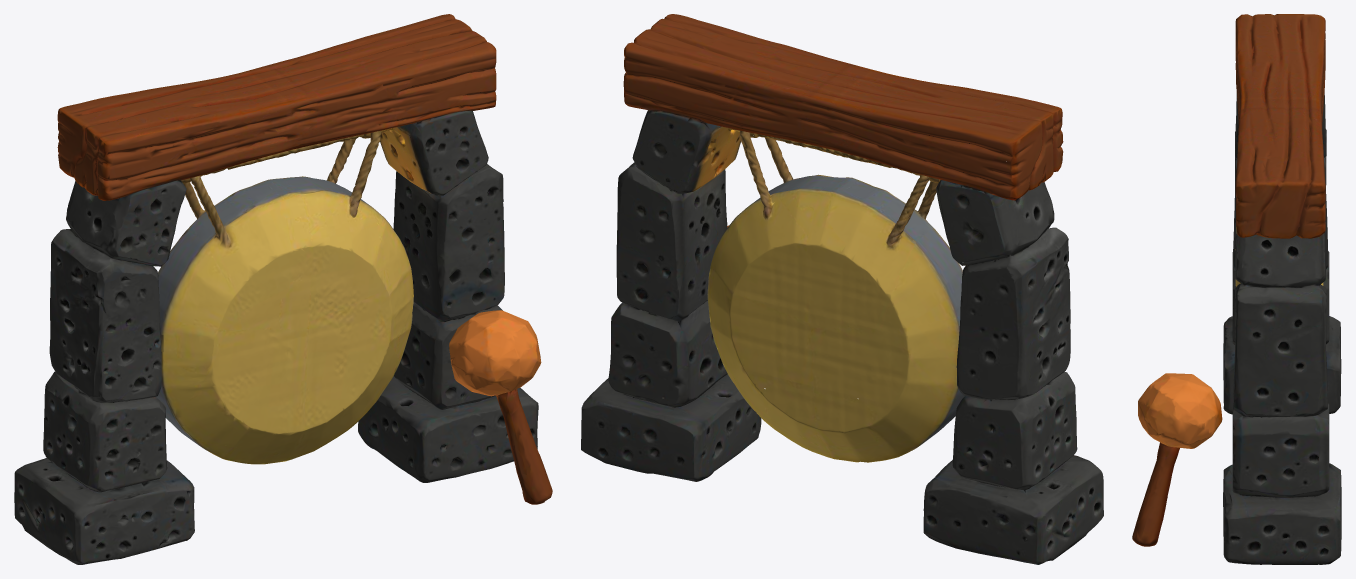
File: gong.glb
3 renders of one model, left to right at view 1: azimuth 30°, elevation 25°; view 2: azimuth 150°, elevation 25°; view 3: azimuth 270°, elevation 25°, orthographic. The views are drawn at different scales.
Parts seen in each view (by area): view 1: tripo_node_82a4c492-4e00-4db1-802f-df2735baf55f; view 2: tripo_node_82a4c492-4e00-4db1-802f-df2735baf55f; view 3: tripo_node_82a4c492-4e00-4db1-802f-df2735baf55f.
Boxes of the visible parts, <box> form: tripo_node_82a4c492-4e00-4db1-802f-df2735baf55f: <box>14,14,552,564</box>; tripo_node_82a4c492-4e00-4db1-802f-df2735baf55f: <box>581,14,1103,564</box>; tripo_node_82a4c492-4e00-4db1-802f-df2735baf55f: <box>1132,14,1341,564</box>.
Size of the model in its own units: 0.981 by 0.8387 by 0.4325.
1 material, 1 textured.
